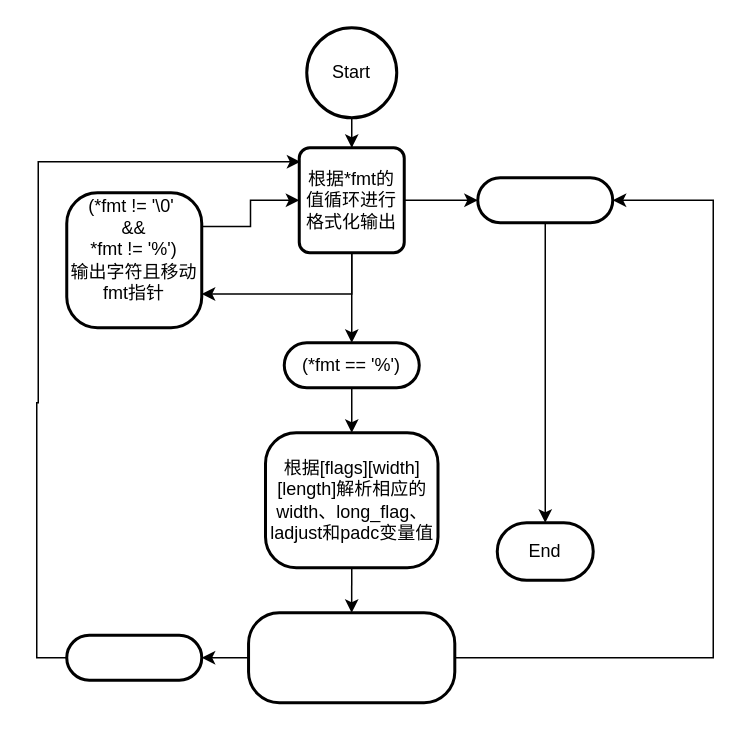
Image size: 752x729. Some labels were removed from this diagram. The shapes that lost their labels are listed below. From the top down, each one's centre as x and y in pixels, then its label:
At [545,200]: "(*fmt == '\0')".
At [133,657]: "(*fmt != '\0')".
At [351,657]: "根据[specifier]进行相应的输出，并移动fmt".
